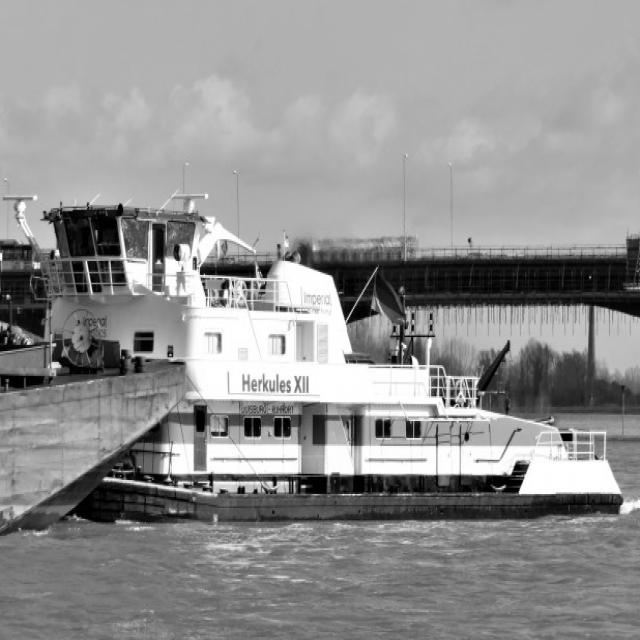tugboat: (1, 184, 633, 545)
